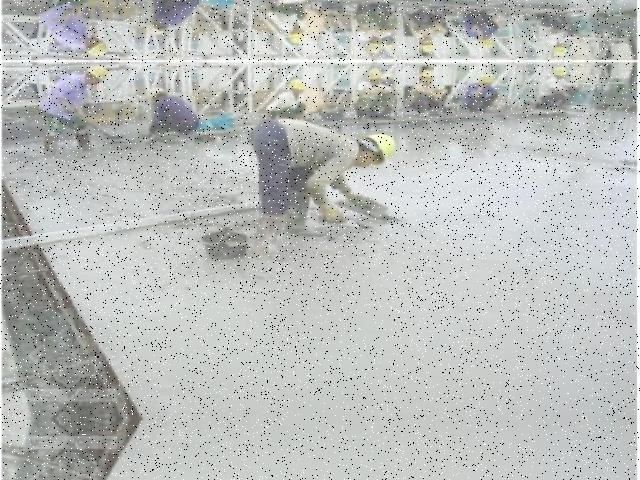Helmet: (361, 129, 401, 168)
